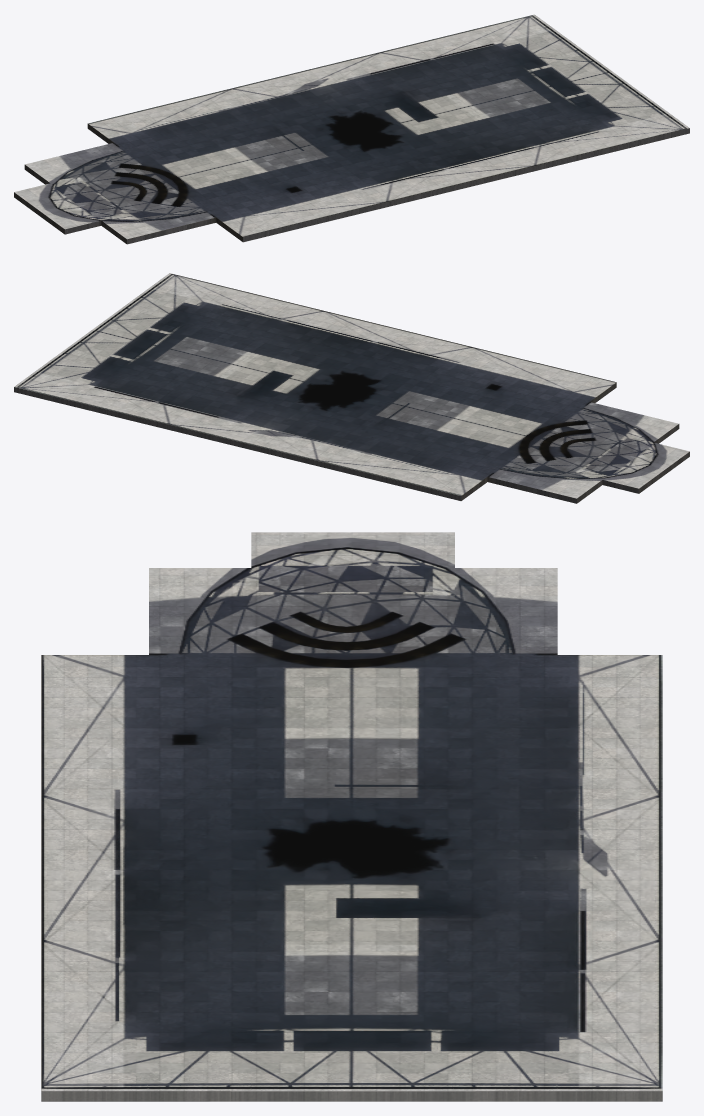
Rendered from hit2021floor.glb.
The picture shows the model from 3 angles, top to bottom: view 1: azimuth 30°, elevation 25°; view 2: azimuth 150°, elevation 25°; view 3: azimuth 270°, elevation 25°; orthographic projection. The views are drawn at different scales.
Visible parts, largest first — view 1: Floor; view 2: Floor; view 3: Floor.
Part boxes in pixels (x1,y1,x2,y2): Floor: (14,14,689,244); Floor: (14,273,689,503); Floor: (41,532,662,1101).
Bounding box in the file's own units: 56.9 × 0.4931 × 26.75.
Materials: 1 (1 with a texture image).
